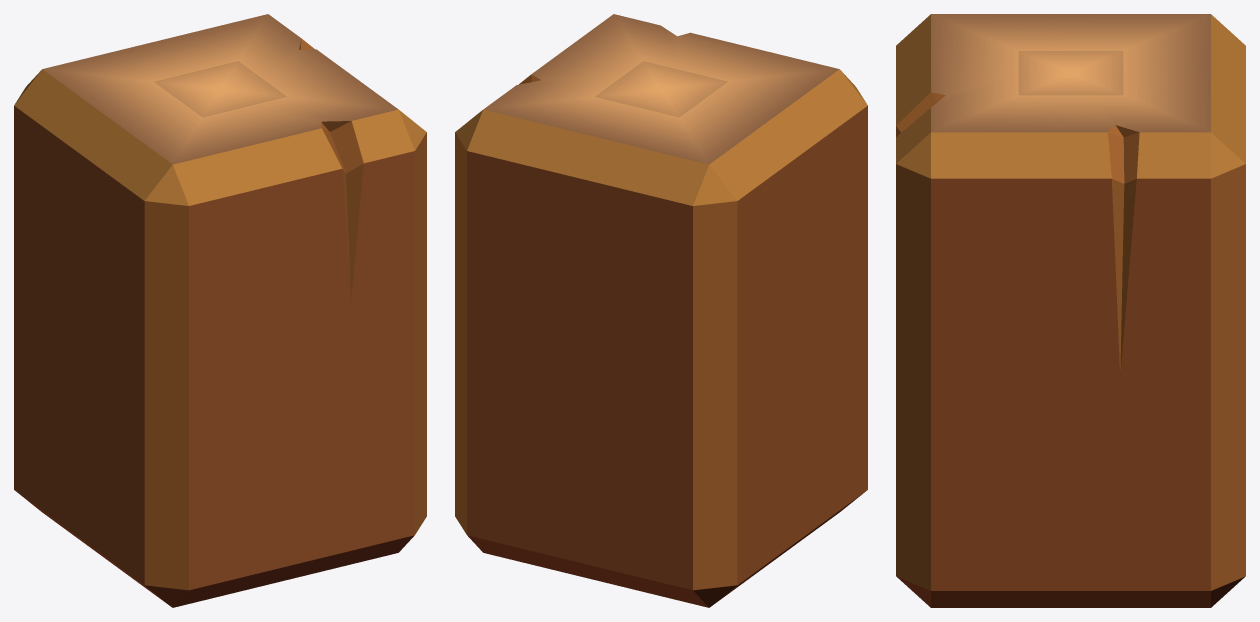
Rendered from m_kub_wood_vrickMid.FBX.
3 views of the same model, side by side, from view 1: azimuth 30°, elevation 25°; view 2: azimuth 150°, elevation 25°; view 3: azimuth 270°, elevation 25° (orthographic). The views are drawn at different scales.
Parts seen in each view (by area): view 1: m_kub_wood_vrickMid; view 2: m_kub_wood_vrickMid; view 3: m_kub_wood_vrickMid.
Part boxes in pixels (x1,y1,x2,y2): m_kub_wood_vrickMid: [14, 14, 426, 607]; m_kub_wood_vrickMid: [455, 14, 867, 607]; m_kub_wood_vrickMid: [896, 14, 1245, 607].
Bounding box in the file's own units: 1 × 1.5 × 1.
